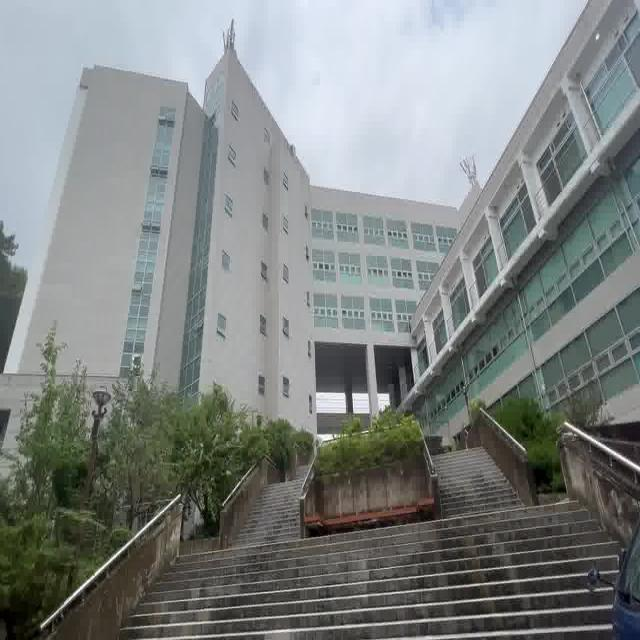building: (39, 40, 438, 372)
